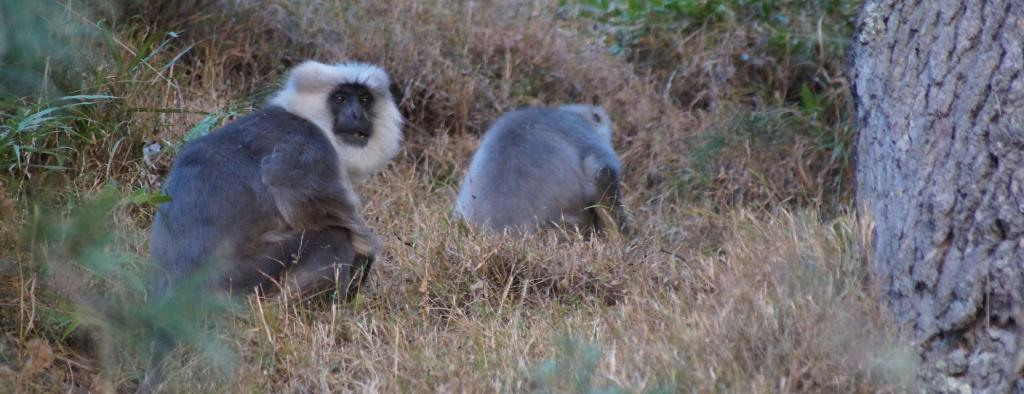monkey: (139, 52, 421, 318), (452, 83, 646, 255)
